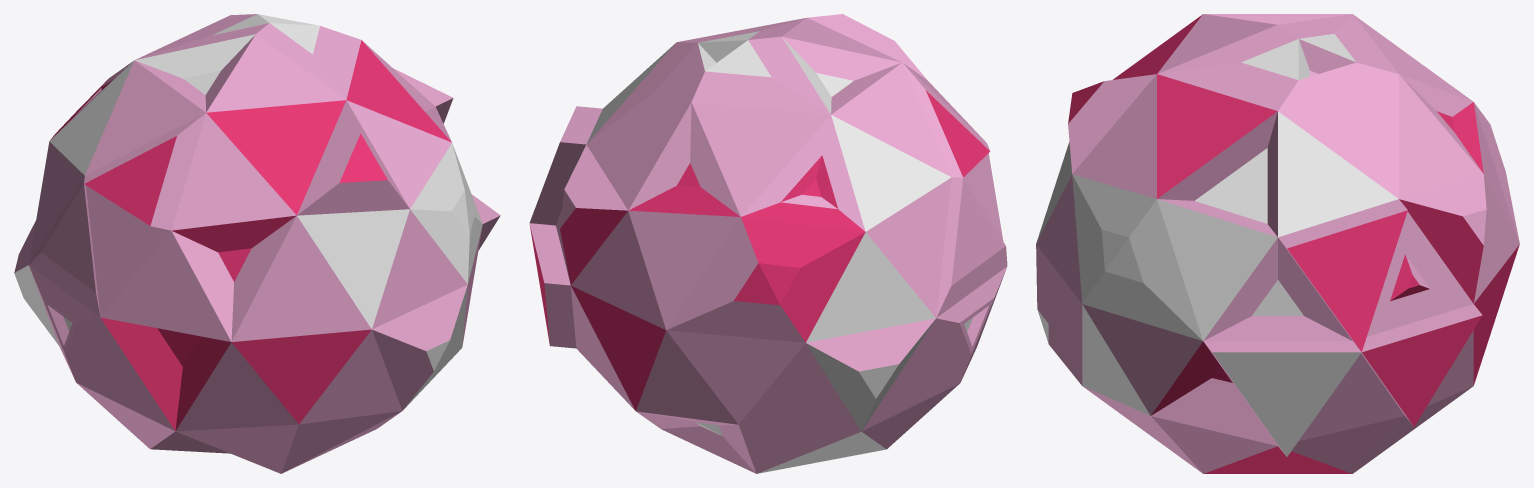
File: 2typeGenerator.fbx
3 views of the same model, side by side, from view 1: azimuth 30°, elevation 25°; view 2: azimuth 150°, elevation 25°; view 3: azimuth 270°, elevation 25° (orthographic). The views are drawn at different scales.
Visible parts, largest first — view 1: Icosphere; view 2: Icosphere; view 3: Icosphere.
Boxes of the visible parts, bbox=[...] form: Icosphere: bbox=[14, 14, 500, 473]; Icosphere: bbox=[529, 14, 1007, 473]; Icosphere: bbox=[1036, 14, 1519, 473].
Bounding box in the file's own units: 457 × 448 × 448.
